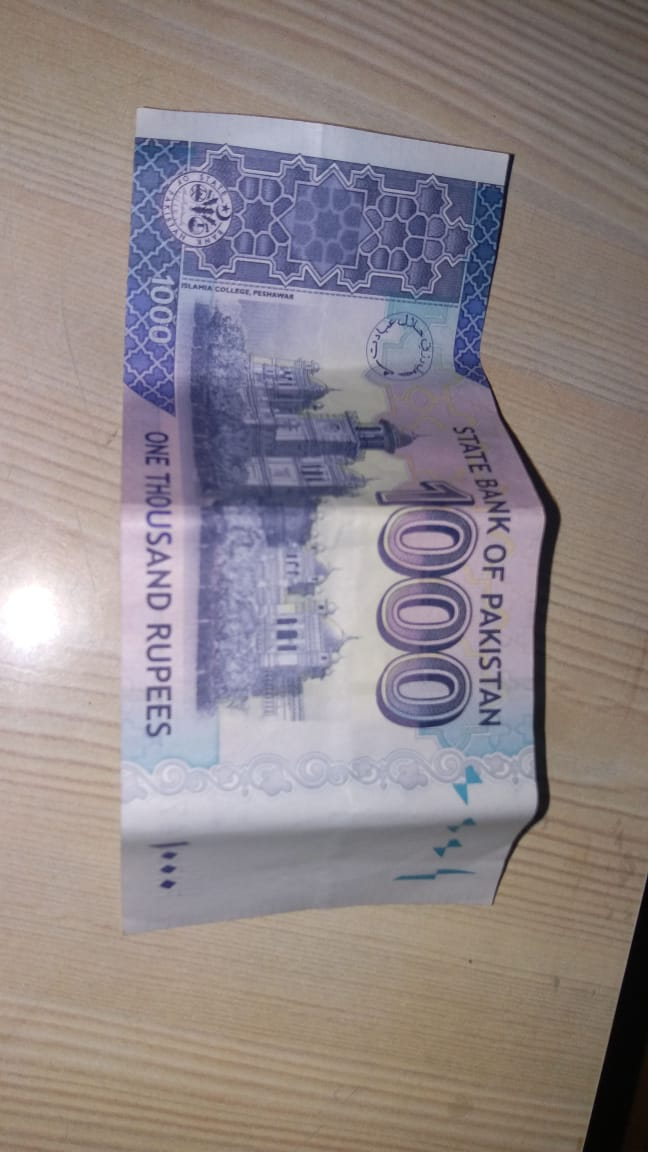1000 rupee: (101, 59, 554, 1000)
